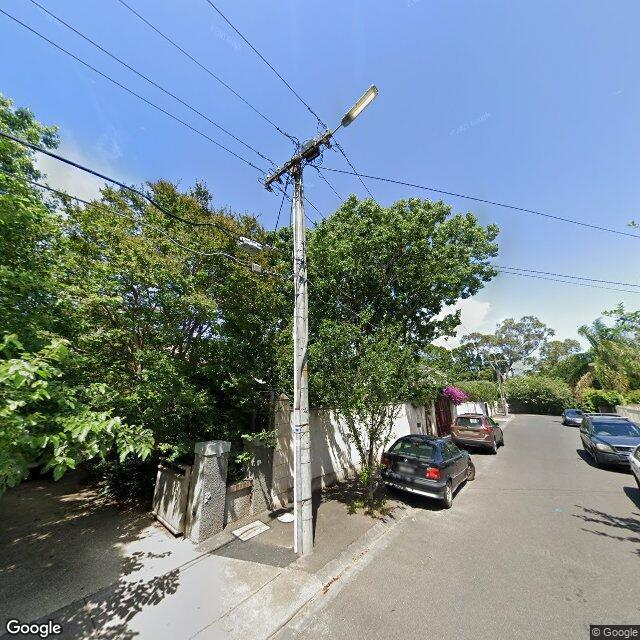crossarm: (249, 108, 337, 194)
streetlight: (330, 84, 380, 138)
timber-pole: (293, 150, 313, 554)
